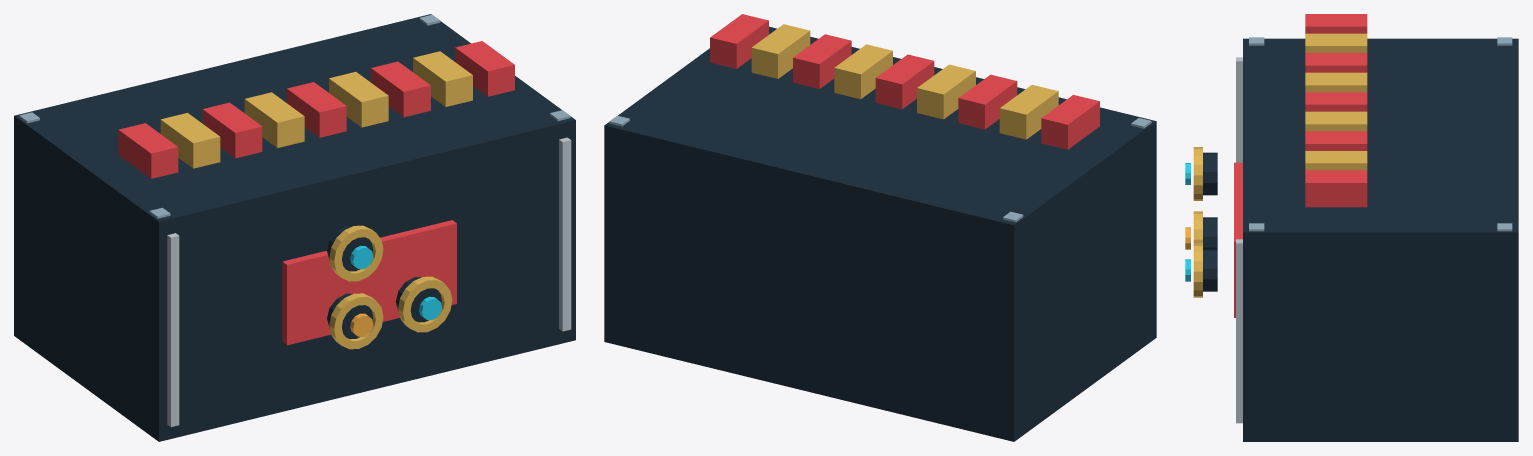
Rendered from 64_L83_OpticalBurstDemandInjector.fbx.
3 views of the same model, side by side, from view 1: azimuth 30°, elevation 25°; view 2: azimuth 150°, elevation 25°; view 3: azimuth 270°, elevation 25° (orthographic). The views are drawn at different scales.
Parts seen in each view (by area): view 1: OpticalBurstDemandInjector, OpticalBurstDemandInjector_Part_0016; view 2: OpticalBurstDemandInjector; view 3: OpticalBurstDemandInjector, OpticalBurstDemandInjector_Part_0016.
Boxes of the visible parts, x1,y1,x2,y2 form: OpticalBurstDemandInjector: (14, 14, 575, 441); OpticalBurstDemandInjector_Part_0016: (282, 220, 456, 345); OpticalBurstDemandInjector: (604, 14, 1156, 441); OpticalBurstDemandInjector: (1185, 14, 1518, 441); OpticalBurstDemandInjector_Part_0016: (1234, 162, 1242, 317).
Bounding box in the file's own units: 103 × 61 × 74.95.
